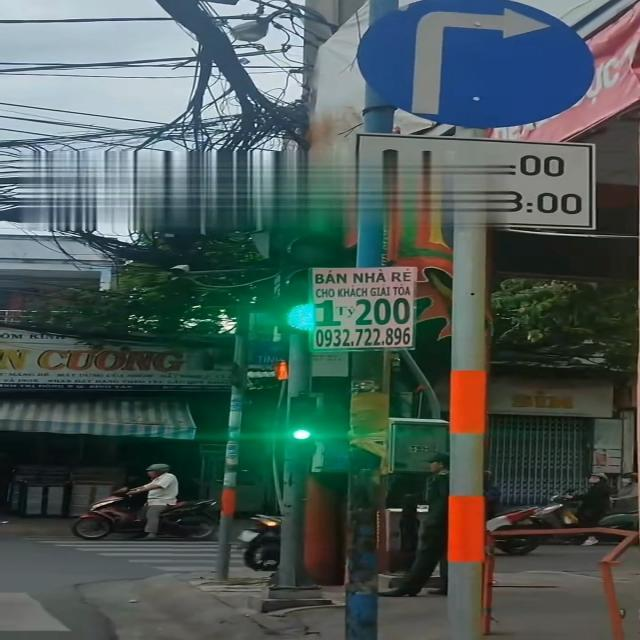301d-cac-xe-chi-duoc-re-phai-2: (349, 0, 599, 128)
